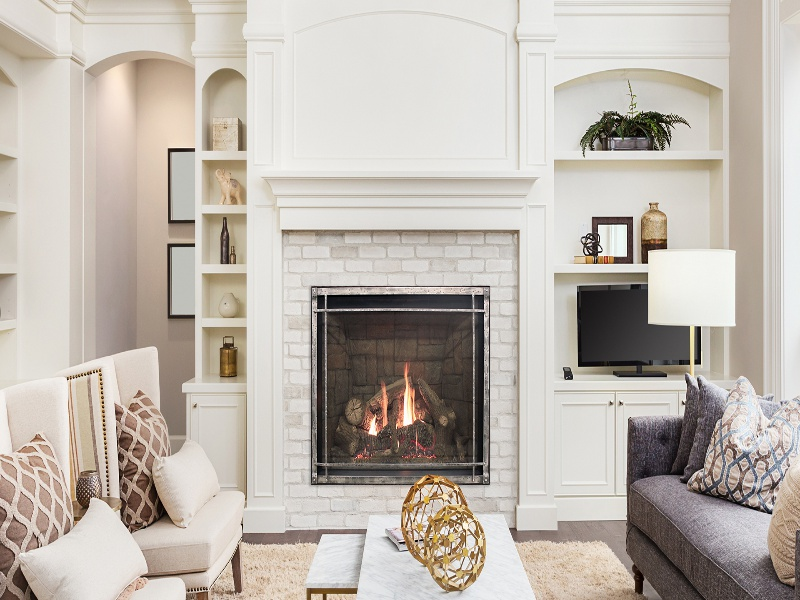fire: (364, 381, 390, 436), (399, 361, 419, 431)
